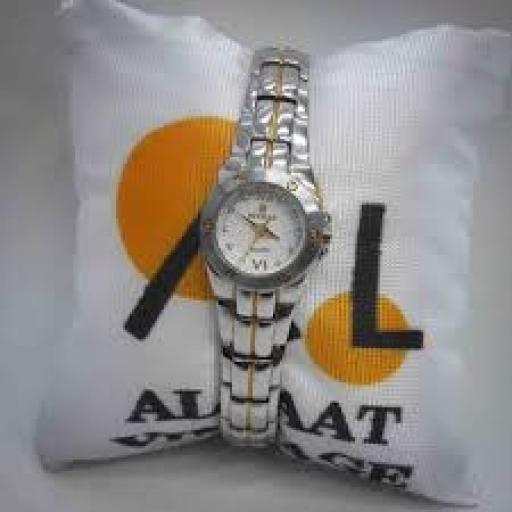KolSaati: (175, 19, 343, 462)
